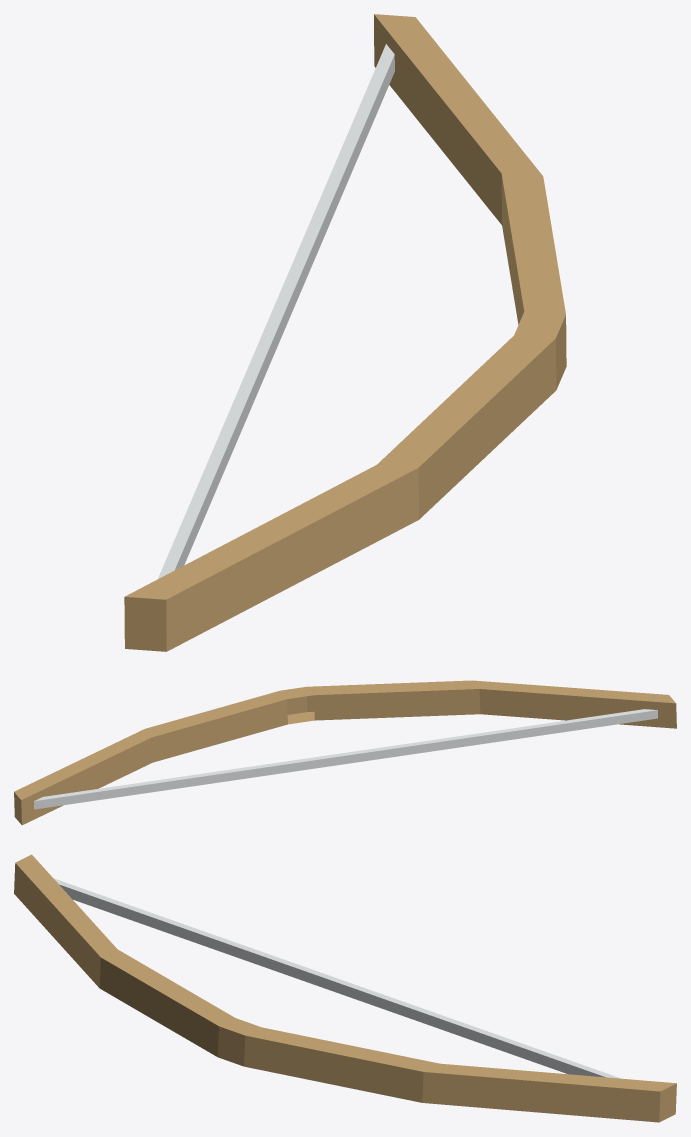
The model's file is wooden_bow.glb.
3 renders of one model, top to bottom at view 1: azimuth 30°, elevation 25°; view 2: azimuth 150°, elevation 25°; view 3: azimuth 270°, elevation 25°, orthographic. The views are drawn at different scales.
Parts seen in each view (by area): view 1: wooden_bow; view 2: wooden_bow; view 3: wooden_bow.
Boxes of the visible parts, x1,y1,x2,y2 form: wooden_bow: (124,14,566,651); wooden_bow: (14,680,676,825); wooden_bow: (14,854,676,1122).
Bounding box in the file's own units: 0.3854 × 0.0254 × 0.45.
